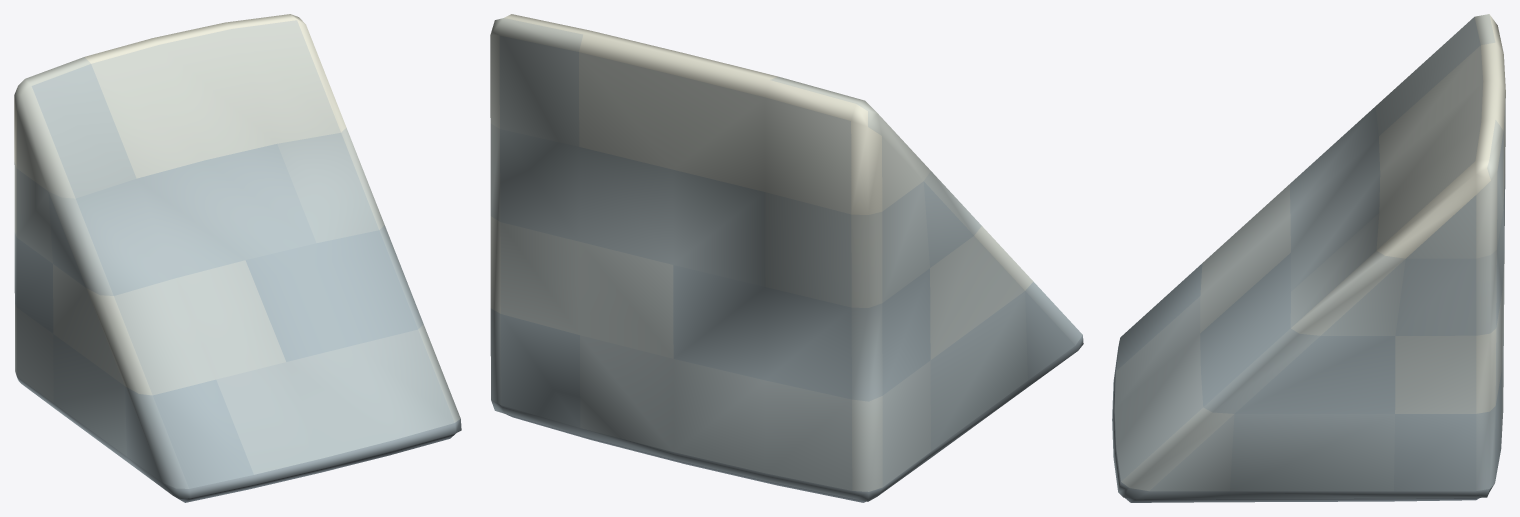
Rendered from Quartz_4x4_Slope_Straight.fbx.
3 views of the same model, side by side, from view 1: azimuth 30°, elevation 25°; view 2: azimuth 150°, elevation 25°; view 3: azimuth 270°, elevation 25° (orthographic). The views are drawn at different scales.
Visible parts, largest first — view 1: Quartz_4x4_Slope_Straight_LOD0; view 2: Quartz_4x4_Slope_Straight_LOD0; view 3: Quartz_4x4_Slope_Straight_LOD0.
Boxes of the visible parts, x1,y1,x2,y2 form: Quartz_4x4_Slope_Straight_LOD0: (14, 14, 461, 502); Quartz_4x4_Slope_Straight_LOD0: (490, 14, 1083, 502); Quartz_4x4_Slope_Straight_LOD0: (1112, 14, 1505, 502).
Size of what is drawn, in the model's own units: 1.04 by 1.06 by 1.08.
